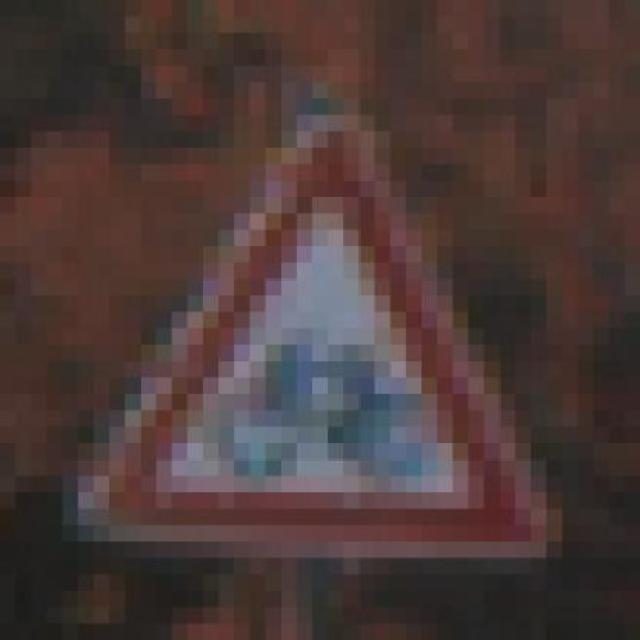CYCLE ROUTE AHEAD WARNING: (62, 82, 578, 590)
